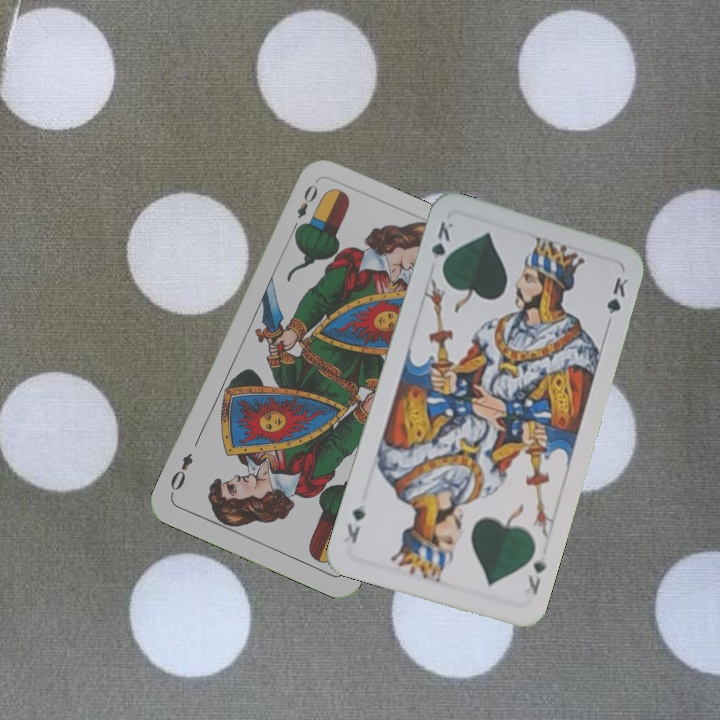EO: (287, 180, 321, 236)
GK: (427, 217, 456, 275), (524, 551, 549, 598)
